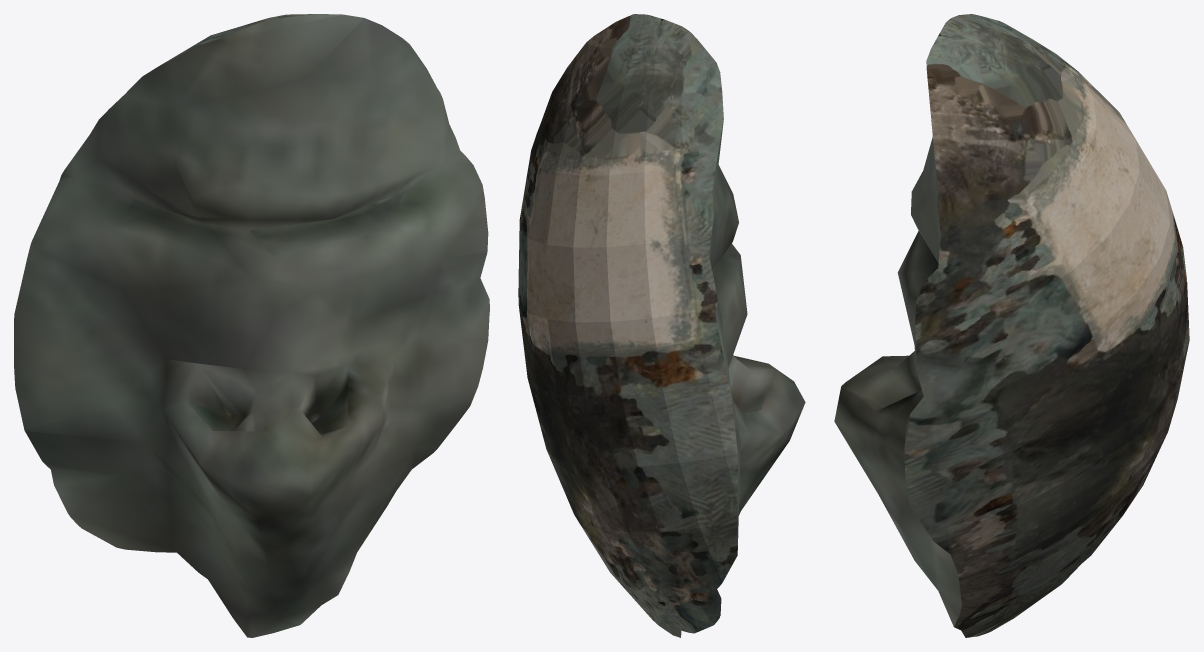
File: christoph_willibald_ritter_von_gluck_3.glb
3 views of the same model, side by side, from view 1: azimuth 30°, elevation 25°; view 2: azimuth 150°, elevation 25°; view 3: azimuth 270°, elevation 25° (orthographic). The views are drawn at different scales.
Visible parts, largest first — view 1: Mesh_0.008; view 2: Mesh_0.008; view 3: Mesh_0.008.
Boxes of the visible parts, bbox=[...] form: Mesh_0.008: bbox=[14, 14, 489, 637]; Mesh_0.008: bbox=[518, 14, 805, 637]; Mesh_0.008: bbox=[834, 14, 1189, 637].
Size of the model in its own units: 0.0719 by 0.1244 by 0.0647.
1 material, 1 textured.
